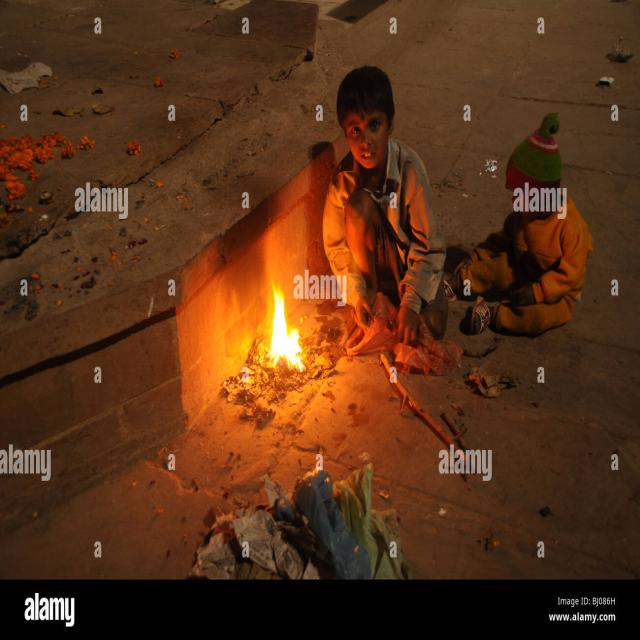fire: (266, 281, 302, 372)
